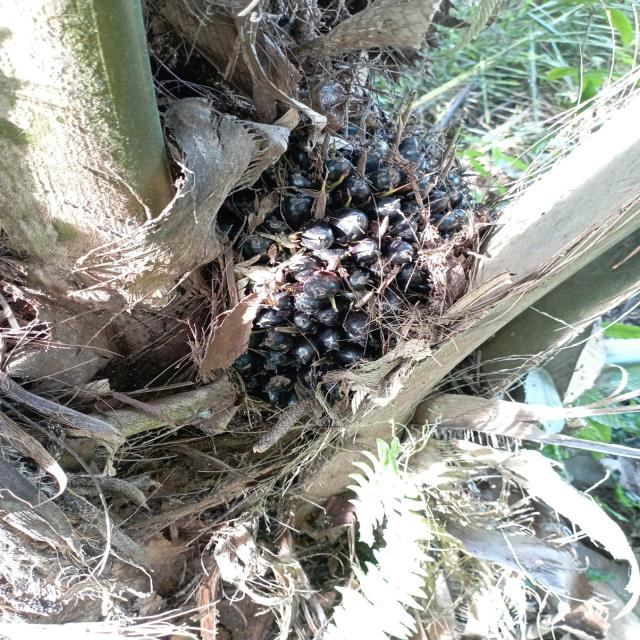fraksi 00: (135, 24, 572, 437)
